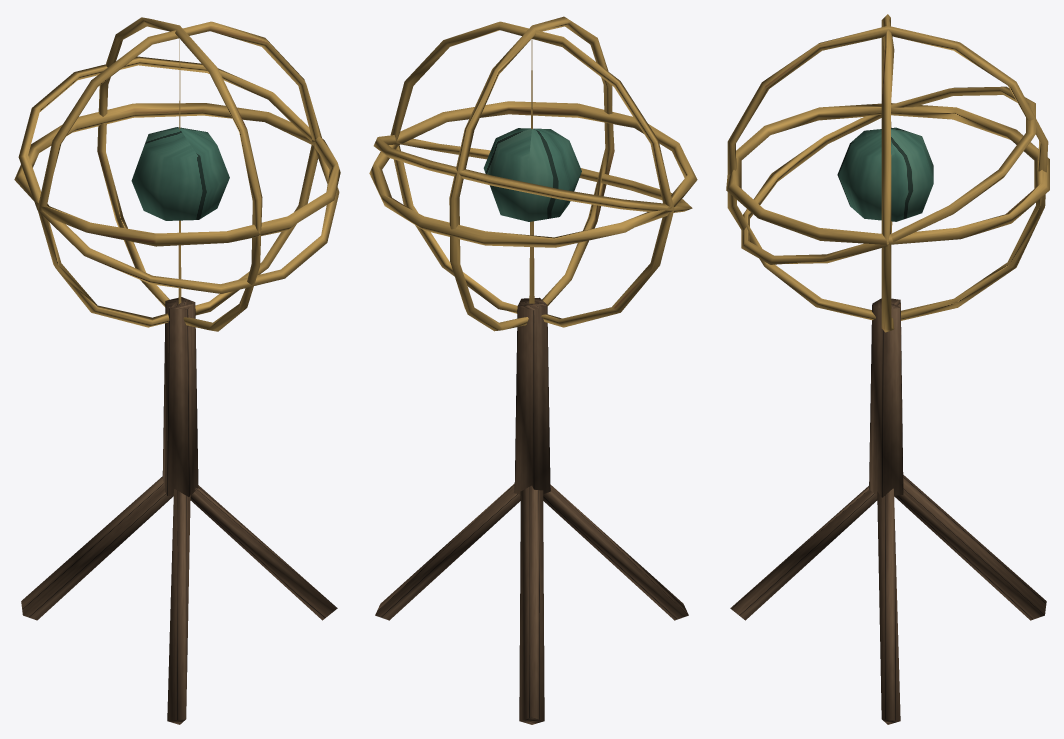
The model's file is Armillary_Sphere_1_LOD1.gltf.
The picture shows the model from 3 angles, left to right: view 1: azimuth 30°, elevation 25°; view 2: azimuth 150°, elevation 25°; view 3: azimuth 270°, elevation 25°; orthographic projection.
Visible parts, largest first — view 1: Armillary_Sphere_1_LOD1; view 2: Armillary_Sphere_1_LOD1; view 3: Armillary_Sphere_1_LOD1.
Boxes of the visible parts, left/top/right/bottom form: Armillary_Sphere_1_LOD1: left=14, top=17, right=340, bottom=724; Armillary_Sphere_1_LOD1: left=369, top=16, right=697, bottom=724; Armillary_Sphere_1_LOD1: left=726, top=14, right=1049, bottom=724.
Size of the model in its own units: 1.08 by 2.24 by 1.02.
3 materials, 3 textured.
